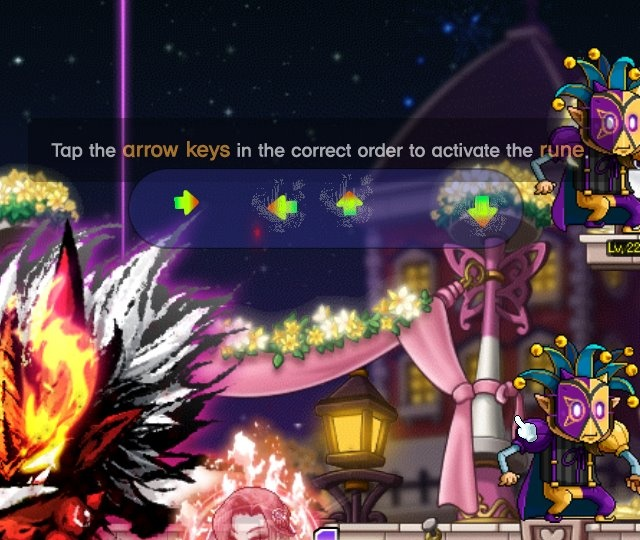down: (461, 191, 505, 235)
left: (262, 189, 302, 229)
right: (168, 186, 201, 218)
up: (331, 187, 370, 229)
